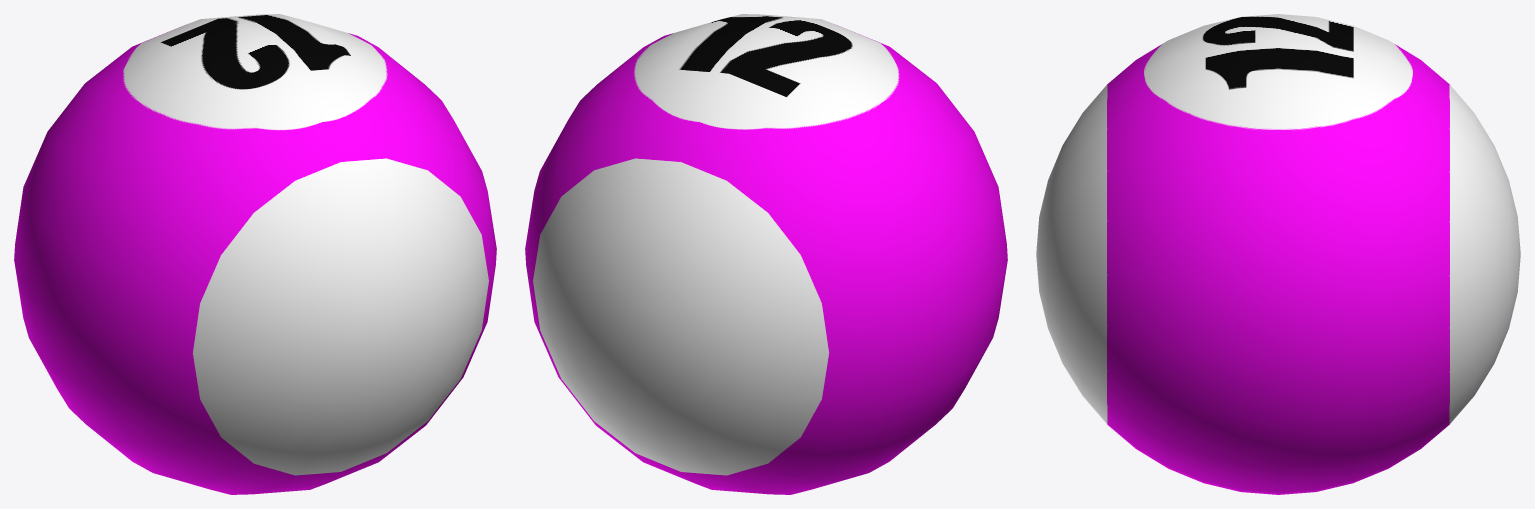
Rendered from ball12.fbx.
3 renders of one model, left to right at view 1: azimuth 30°, elevation 25°; view 2: azimuth 150°, elevation 25°; view 3: azimuth 270°, elevation 25°, orthographic.
Parts seen in each view (by area): view 1: pSphere1; view 2: pSphere1; view 3: pSphere1.
Boxes of the visible parts, <box> form: pSphere1: <box>14,14,496,494</box>; pSphere1: <box>525,14,1007,494</box>; pSphere1: <box>1036,14,1520,494</box>.
Size of the model in its own units: 2 by 2 by 2.
